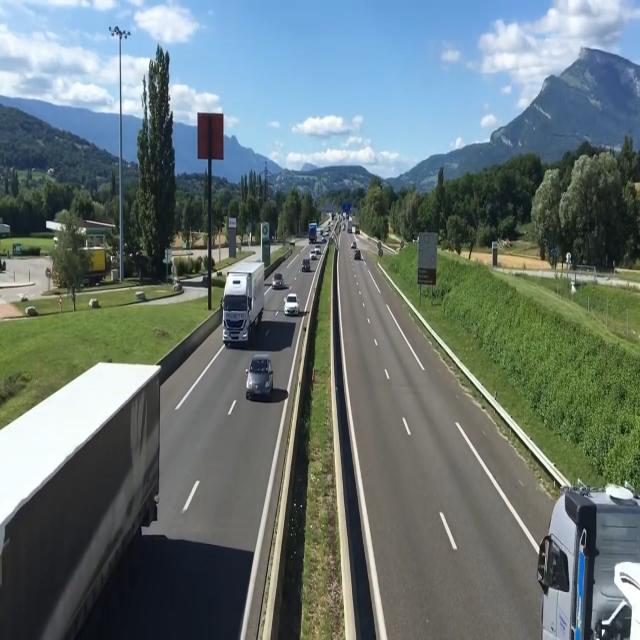car: (244, 353, 274, 400), (282, 289, 300, 323), (271, 270, 285, 296), (298, 254, 313, 274), (354, 249, 366, 265)
truck: (539, 466, 640, 640), (220, 260, 256, 353)
